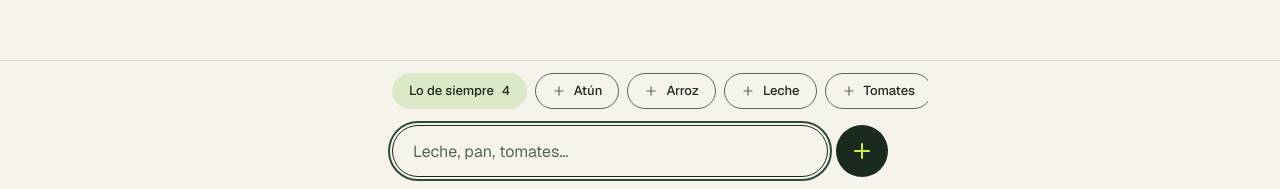
Test: the add field as a combobox › moves the active option with the arrows and adds it with Enter
The width and height of the screenshot is (1280, 189).
In the dropdown named "Producto para agregar": coordinates (610, 151) [392,125,828,177], type "lec"
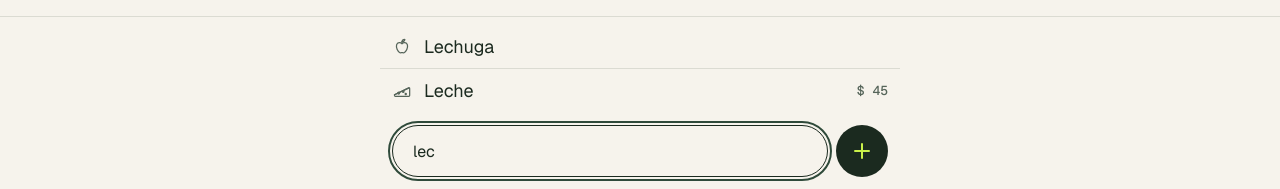
Press ArrowUp in the dropdown named "Producto para agregar", box [392,125,828,177]
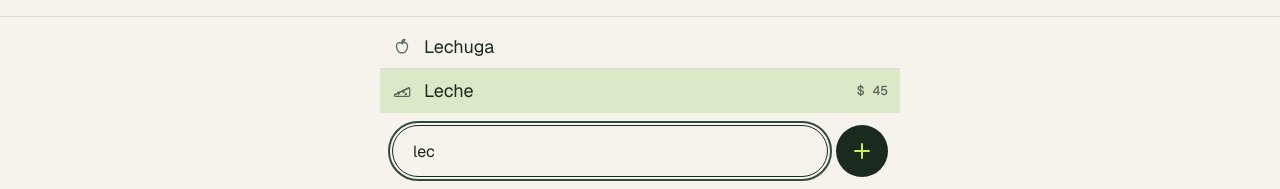
Now the option "Leche $ 45" is selected, box [380,69,900,113]
Press ArrowUp in the dropdown named "Producto para agregar", box [392,125,828,177]
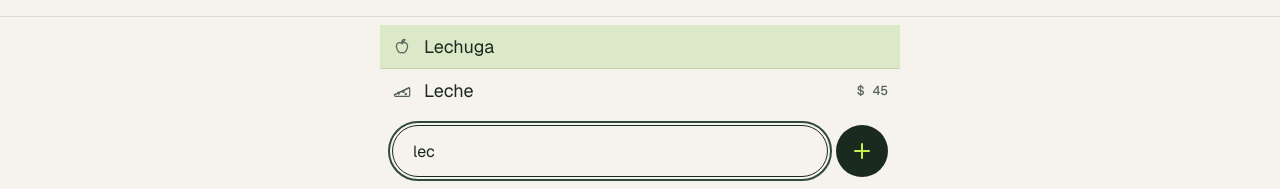
Now the option "Lechuga" is selected, box [380,25,900,69]
Now the option "Leche $ 45" is not selected, box [392,79,888,102]
Press ArrowDown in the dropdown named "Producto para agregar", box [392,125,828,177]
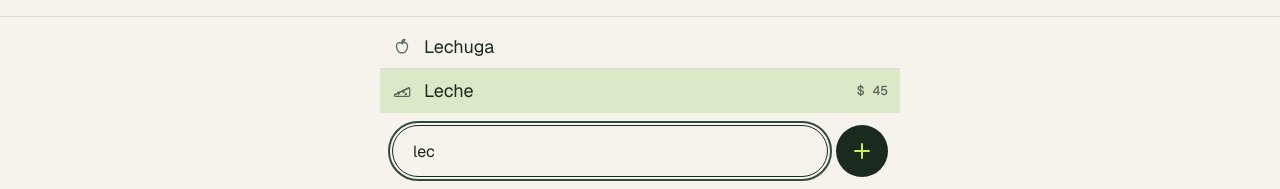
Press Enter in the dropdown named "Producto para agregar", box [392,125,828,177]
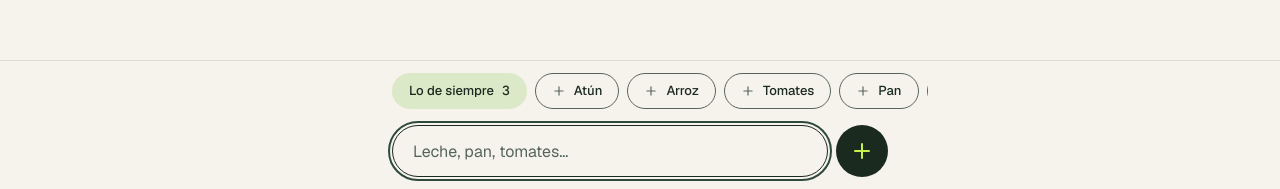
Now the dropdown named "Producto para agregar" is empty, box [392,125,828,177]
Now the dropdown named "Producto para agregar" is collapsed, box [392,125,828,177]
